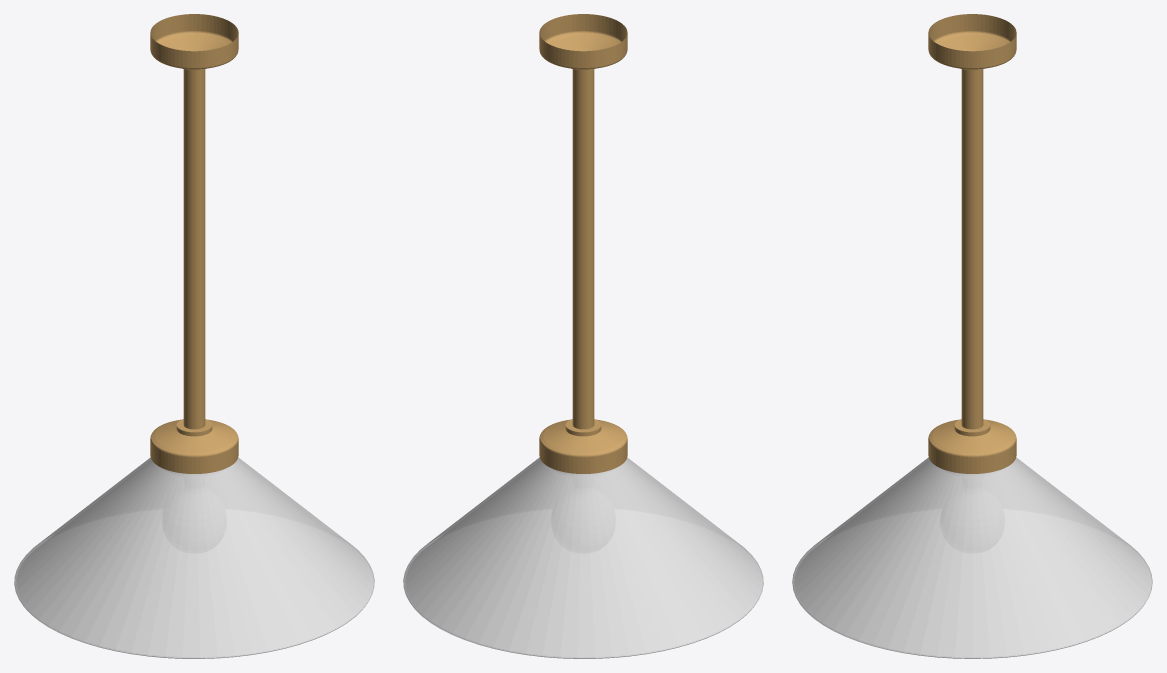
Rendered from toplight.obj.
3 renders of one model, left to right at view 1: azimuth 30°, elevation 25°; view 2: azimuth 150°, elevation 25°; view 3: azimuth 270°, elevation 25°, orthographic.
Visible parts, largest first — view 1: Circle; view 2: Circle; view 3: Circle.
Part boxes in pixels (bbox=[...]): Circle: bbox=[14, 14, 374, 658]; Circle: bbox=[403, 14, 763, 658]; Circle: bbox=[792, 14, 1152, 658].
Size of the model in its own units: 3.93 by 6.63 by 3.93.
